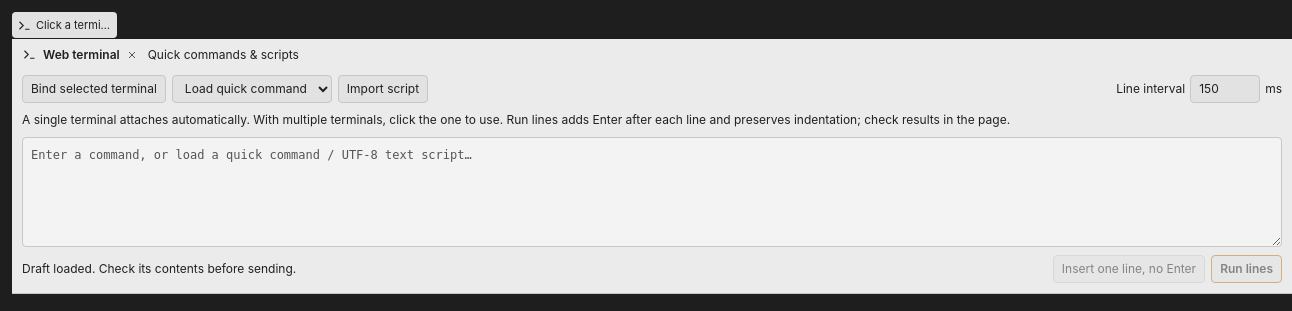
it: 网页终端工具 › 发送前发现用户已选择另一终端时停止，防止发送给旧目标
Click the button "Bind selected terminal": (94, 88) x1=22 y1=74 x2=166 y2=102
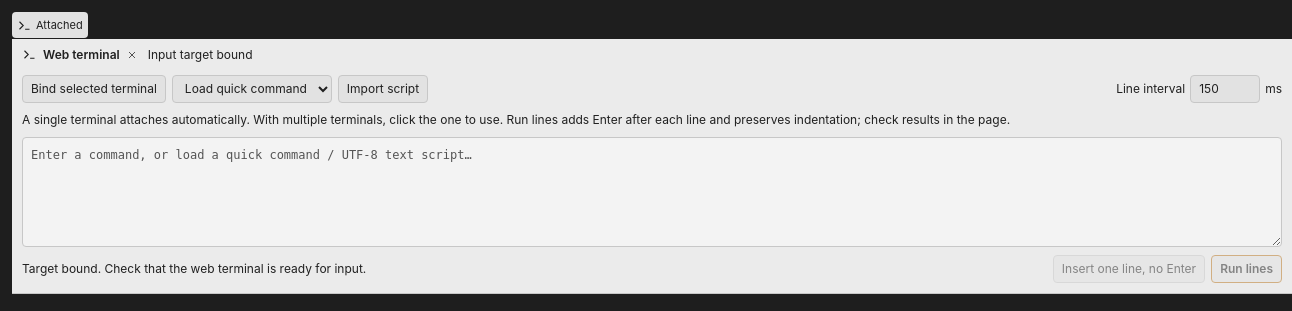
Replace the text in the text box with "danger": (652, 192) x1=22 y1=136 x2=1282 y2=246
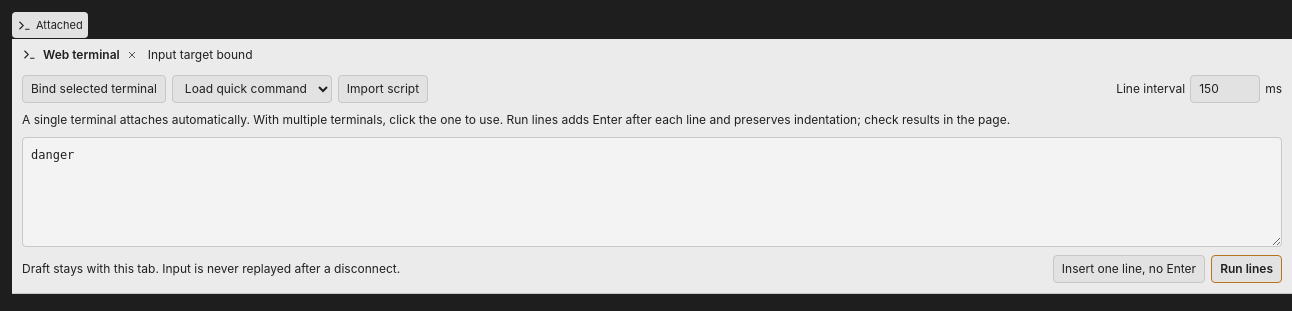
Click the button "Run lines": (1247, 268) x1=1211 y1=254 x2=1282 y2=282
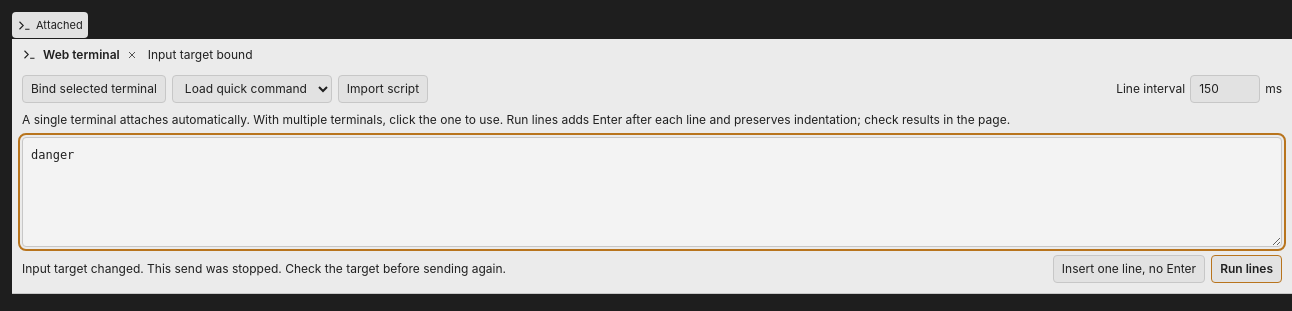
Expected: the message shows "Input target changed", x1=22 y1=260 x2=506 y2=276
